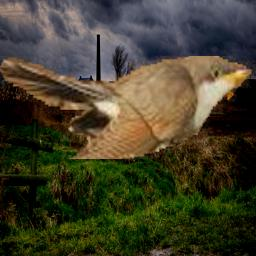Cuckoo: (0, 56, 256, 159)
